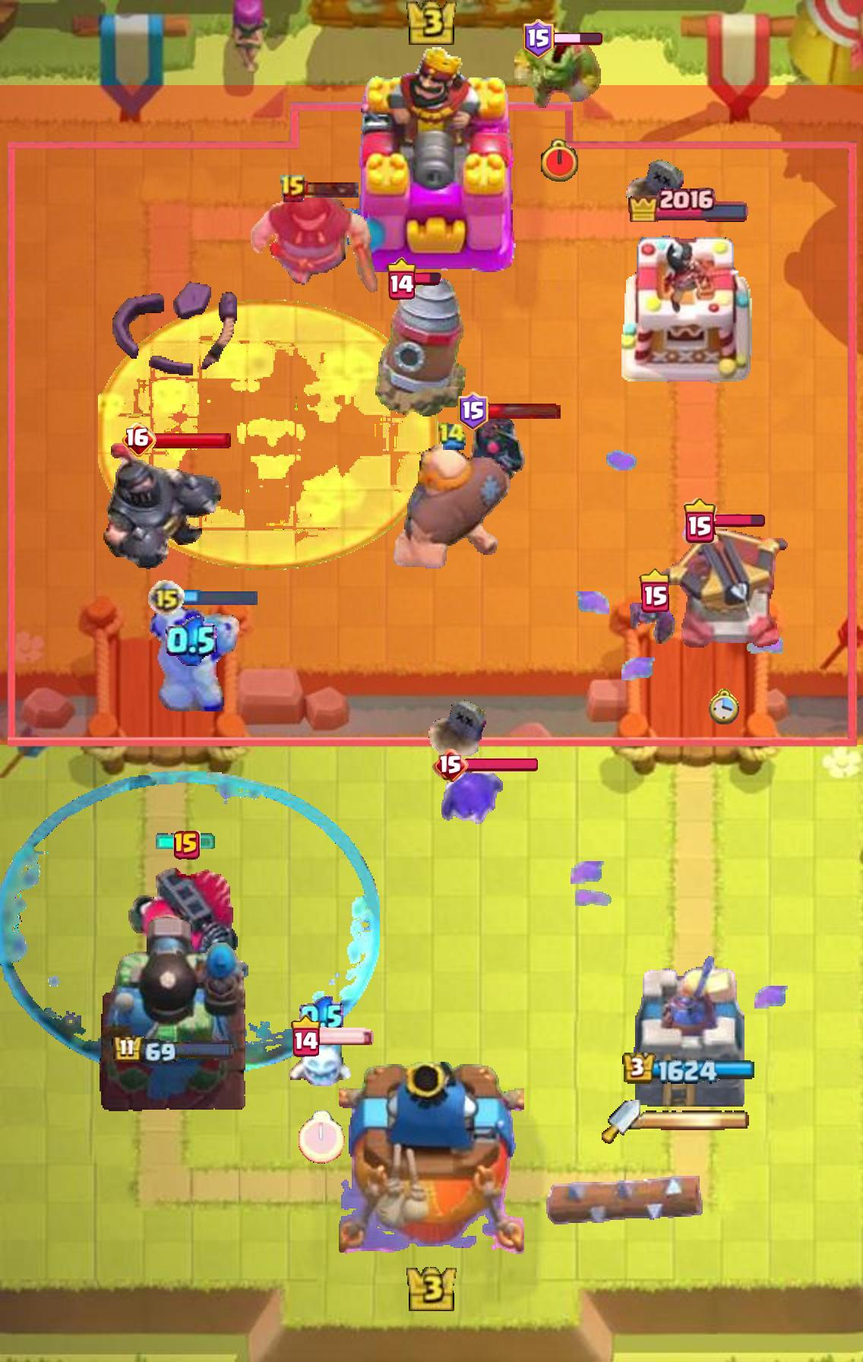bar: (153, 431, 232, 449), (485, 403, 561, 420), (465, 758, 538, 773), (317, 1027, 375, 1045), (303, 180, 359, 198), (713, 514, 765, 529), (551, 33, 604, 46), (413, 272, 441, 286)
bar-level: (683, 498, 718, 545), (639, 569, 669, 614), (456, 391, 489, 431), (386, 257, 416, 300), (522, 19, 554, 59), (291, 1014, 320, 1057), (432, 749, 469, 782), (122, 422, 156, 456), (173, 831, 201, 860), (280, 174, 307, 204)
